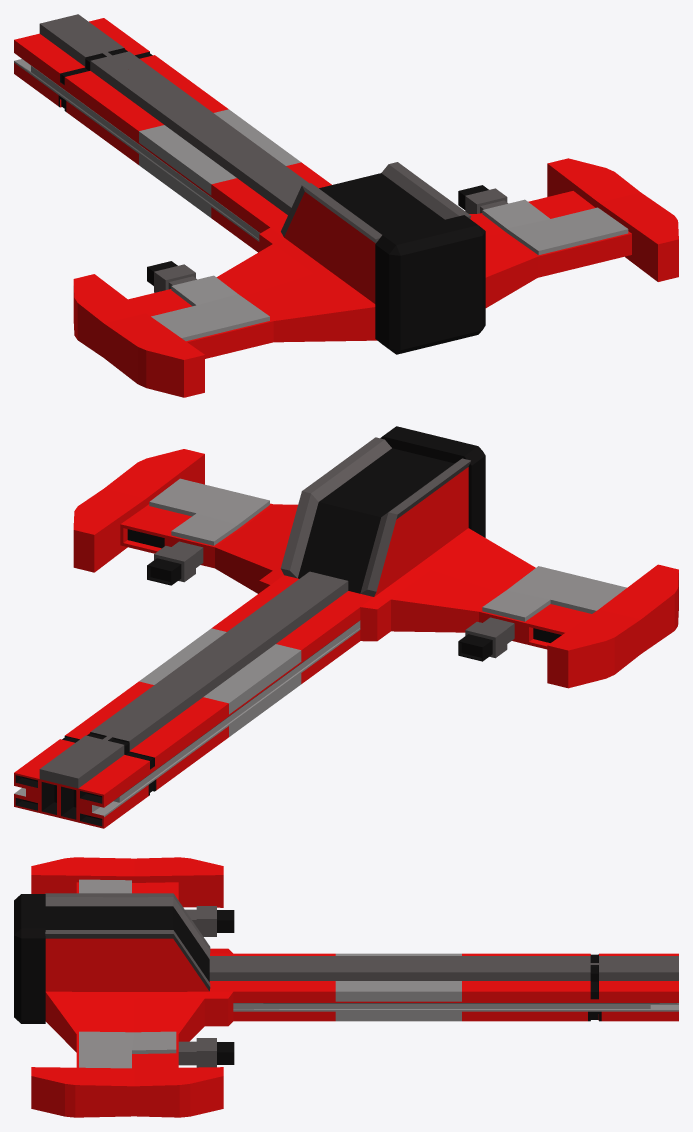
Rendered from Taurus-00.fbx.
The picture shows the model from 3 angles, top to bottom: view 1: azimuth 30°, elevation 25°; view 2: azimuth 150°, elevation 25°; view 3: azimuth 270°, elevation 25°; orthographic projection. The views are drawn at different scales.
Parts seen in each view (by area): view 1: Cube; view 2: Cube; view 3: Cube.
Boxes of the visible parts, left/top/right/bottom form: Cube: left=14, top=14, right=678, bottom=397; Cube: left=14, top=426, right=678, bottom=828; Cube: left=14, top=857, right=678, bottom=1117.
Bounding box in the file's own units: 1193 × 233 × 1472.
